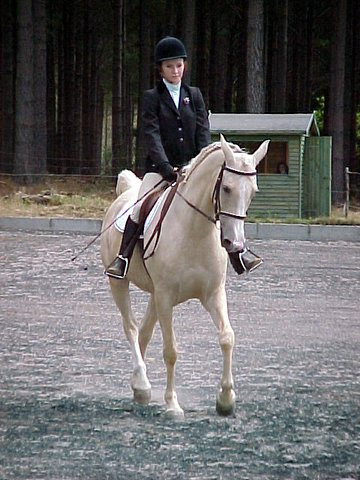without_mask: (159, 51, 188, 85)
